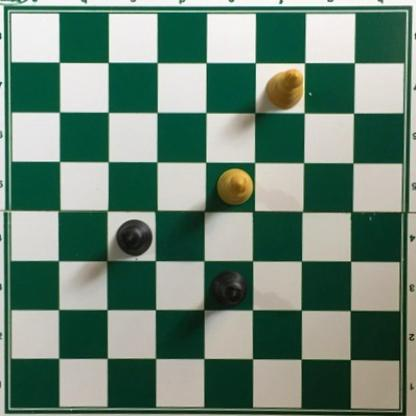black-bishop: (208, 270, 247, 312), (115, 218, 154, 258)
white-bishop: (264, 67, 303, 110), (215, 167, 252, 206)
